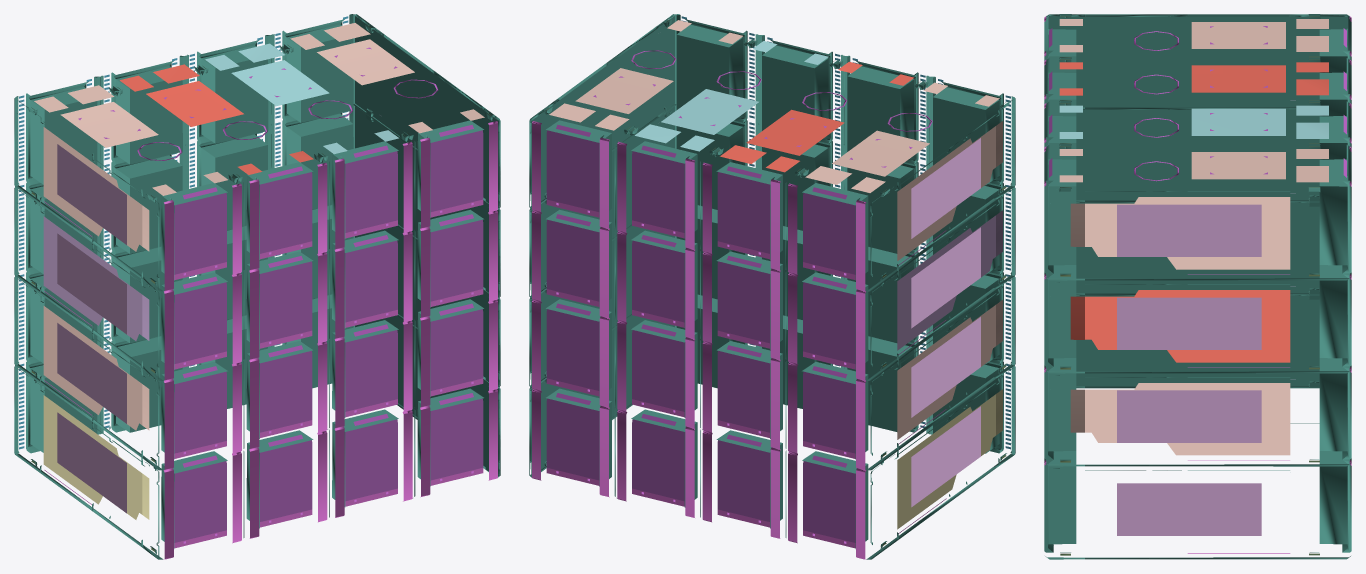
The model's file is storage_container_stack_5_b_lod2.glb.
The picture shows the model from 3 angles, left to right: view 1: azimuth 30°, elevation 25°; view 2: azimuth 150°, elevation 25°; view 3: azimuth 270°, elevation 25°; orthographic projection. The views are drawn at different scales.
Bounding box in the file's own units: 10.01 × 10.03 × 7.5.
